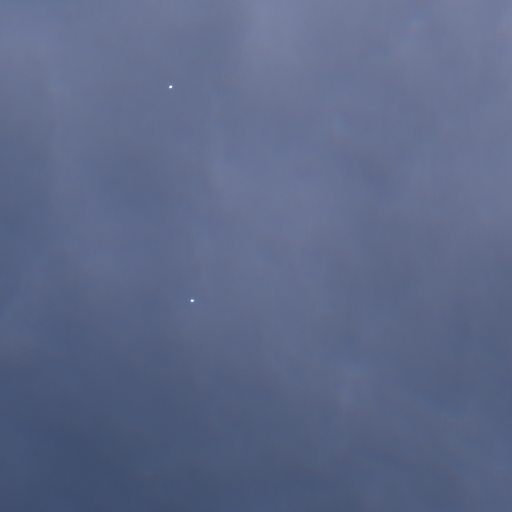Iceberg: (169, 85, 172, 87), (190, 299, 193, 301)
